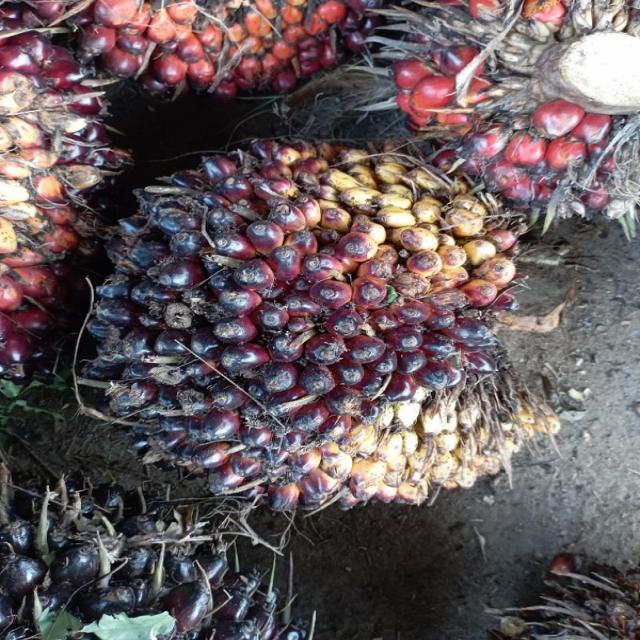fraksi 1: (87, 149, 579, 509)
fraksi 3: (378, 0, 640, 213)
